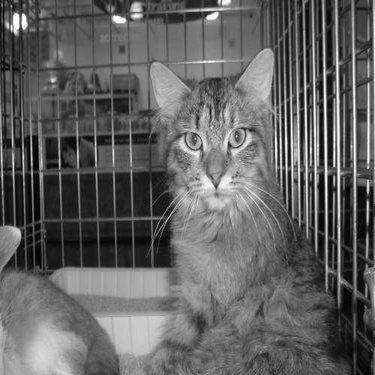cat: (140, 46, 350, 372), (2, 226, 121, 371)
